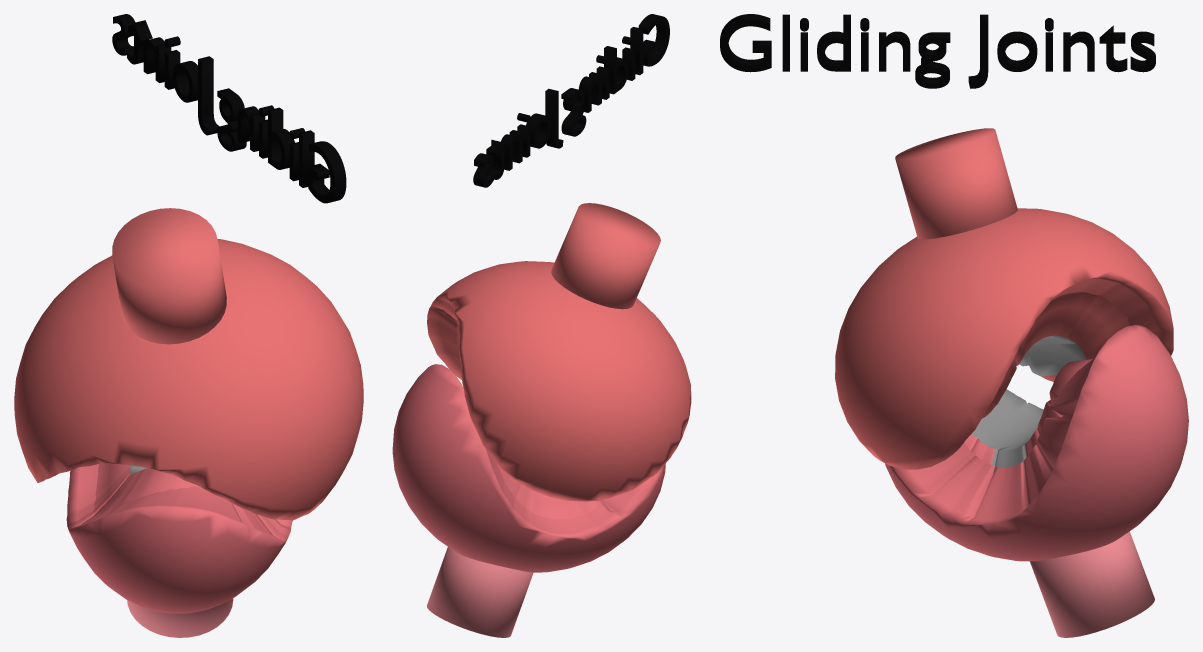
The model's file is Gliding Joints.gltf.
3 views of the same model, side by side, from view 1: azimuth 30°, elevation 25°; view 2: azimuth 150°, elevation 25°; view 3: azimuth 270°, elevation 25° (orthographic). The views are drawn at different scales.
Visible parts, largest first — view 1: Sphere, Sphere.001, Text; view 2: Sphere, Sphere.001, Text; view 3: Sphere, Sphere.001, Text.
Part boxes in pixels (left/top/right/bottom): Sphere: left=14, top=208, right=363, bottom=520; Sphere.001: left=66, top=463, right=292, bottom=637; Text: left=112, top=14, right=346, bottom=203; Sphere: left=427, top=203, right=691, bottom=501; Sphere.001: left=392, top=364, right=665, bottom=637; Text: left=473, top=14, right=669, bottom=187; Sphere: left=835, top=128, right=1173, bottom=469; Sphere.001: left=885, top=325, right=1188, bottom=637; Text: left=720, top=14, right=1155, bottom=88.
Size of the model in its own units: 1.45 by 2.84 by 2.01.
